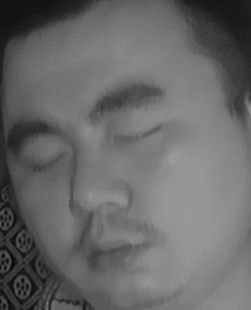blink: (112, 116, 164, 155), (26, 145, 70, 181)
mouth: (74, 223, 154, 279)
